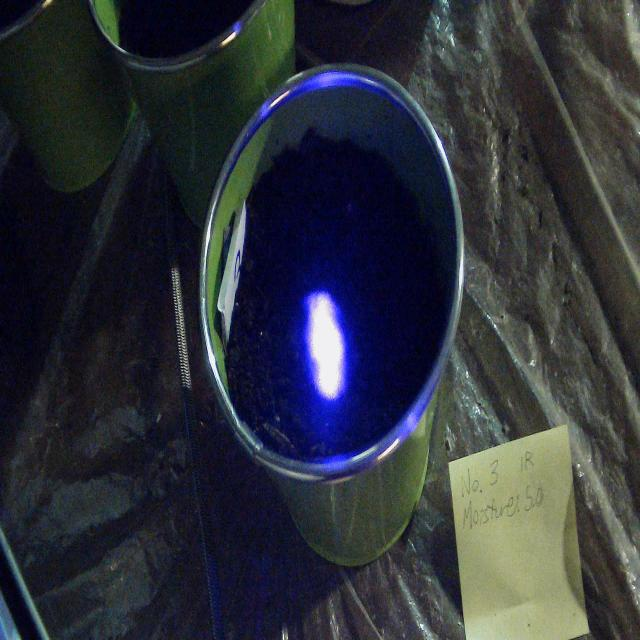soil-moisture-5.0: (304, 289, 351, 403)
